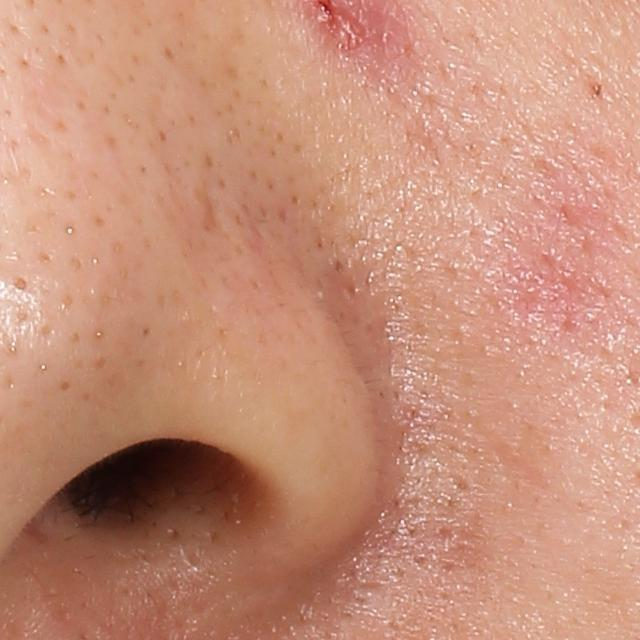atrophic_scar: (193, 182, 224, 237)
comedo: (12, 273, 33, 296)
